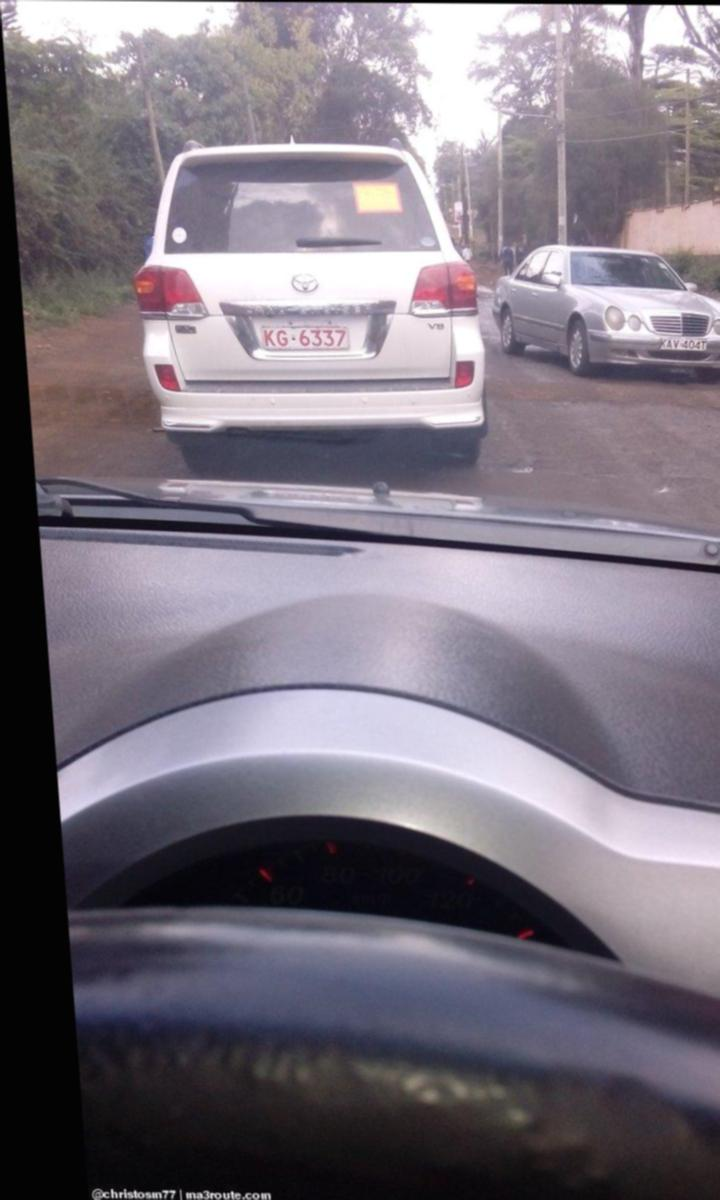License_Plate: (249, 305, 362, 362), (648, 325, 720, 357)
